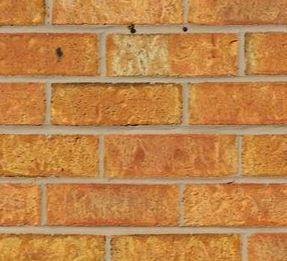brick: (45, 180, 181, 228), (47, 81, 184, 126), (105, 31, 241, 76), (103, 132, 239, 177), (184, 181, 287, 228), (189, 79, 287, 128), (1, 133, 101, 179), (1, 32, 100, 77), (109, 232, 243, 261), (50, 1, 181, 26), (1, 234, 108, 260), (187, 1, 287, 25)
